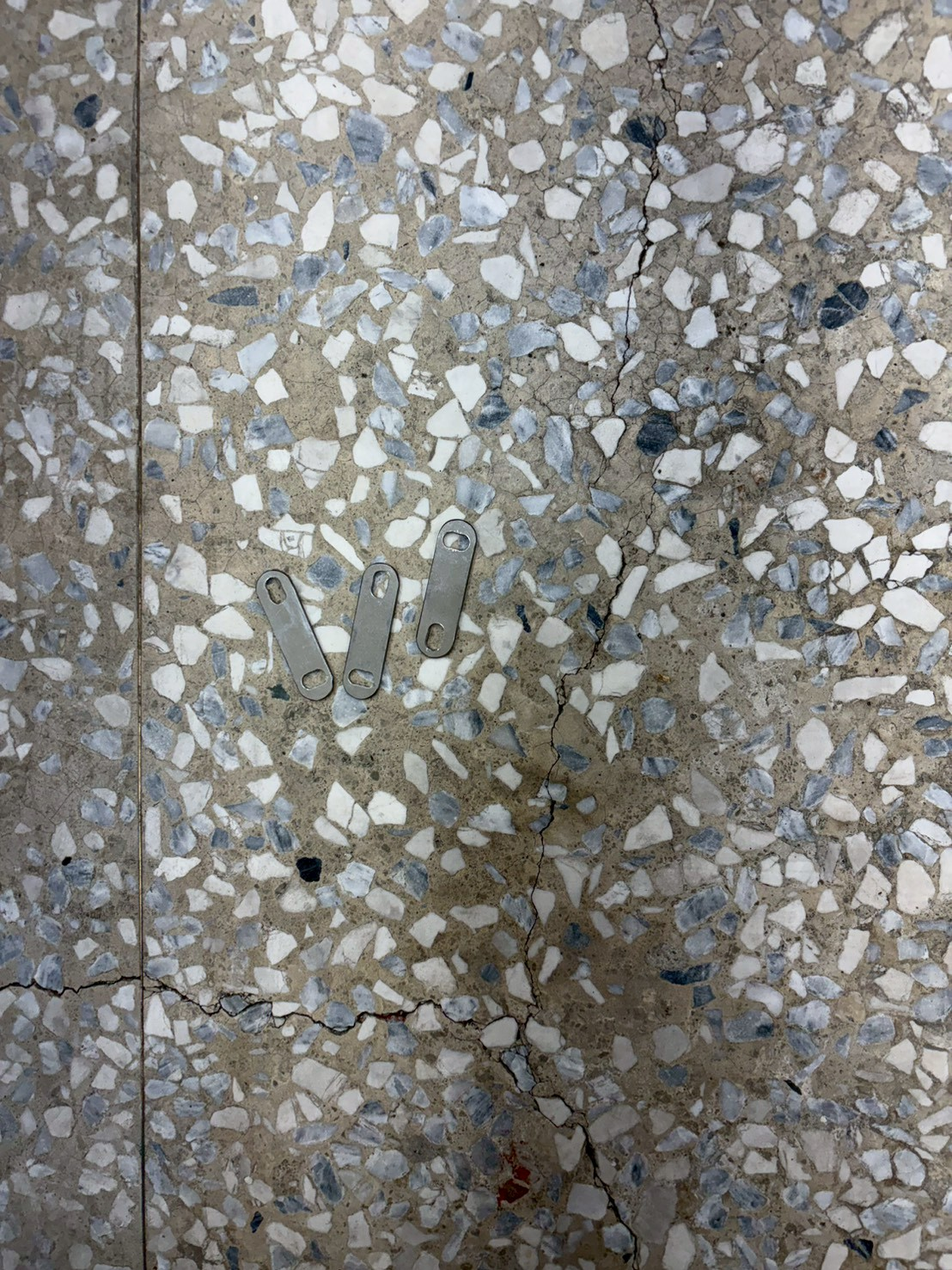Fe: (248, 577, 295, 719), (439, 513, 486, 655), (362, 556, 408, 697)
